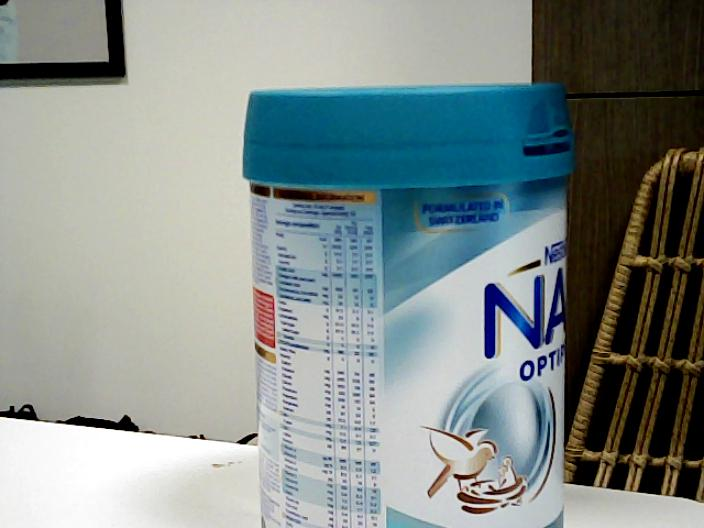Babymilk-powder_800-899g_Halal_Healthy: (241, 82, 568, 528)
